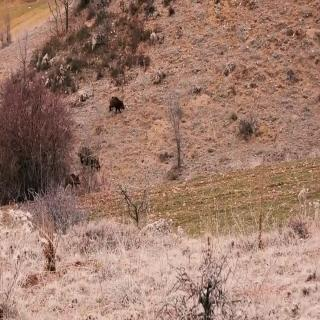Pig: (105, 88, 137, 118), (57, 169, 82, 198)
